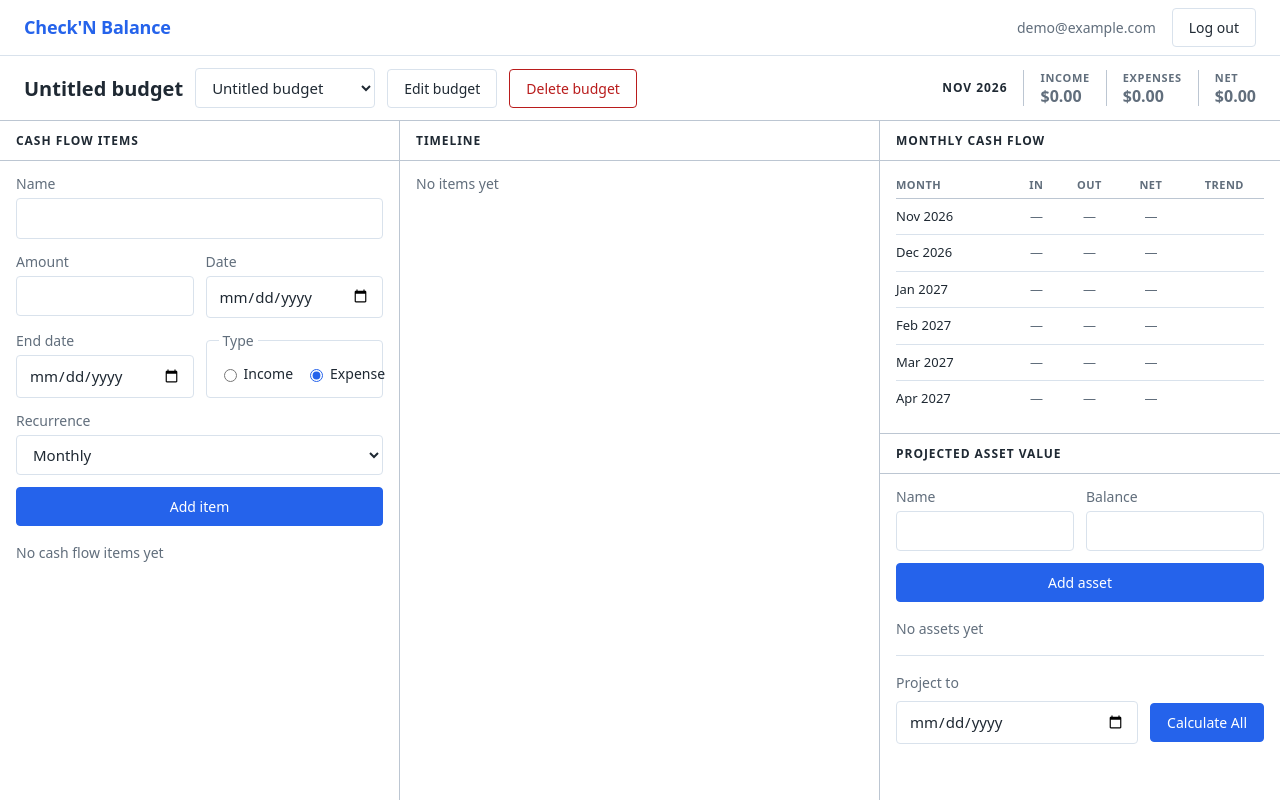
the add form › shows an error when the server is unreachable
Type "Gym" into the 1st field labelled "Name" at (200, 218), box [16, 198, 383, 238]
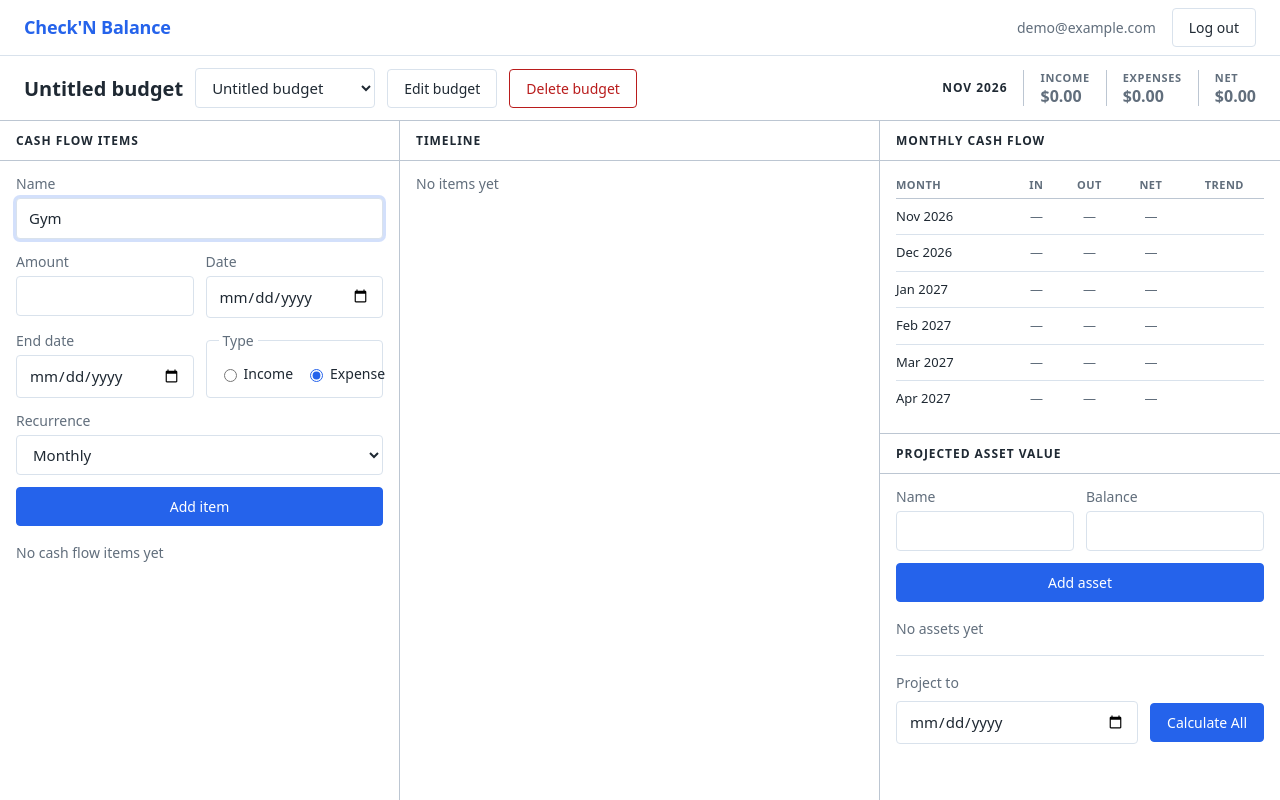
Type "40" into the number field labelled "Amount" at (105, 296), box [16, 276, 194, 316]
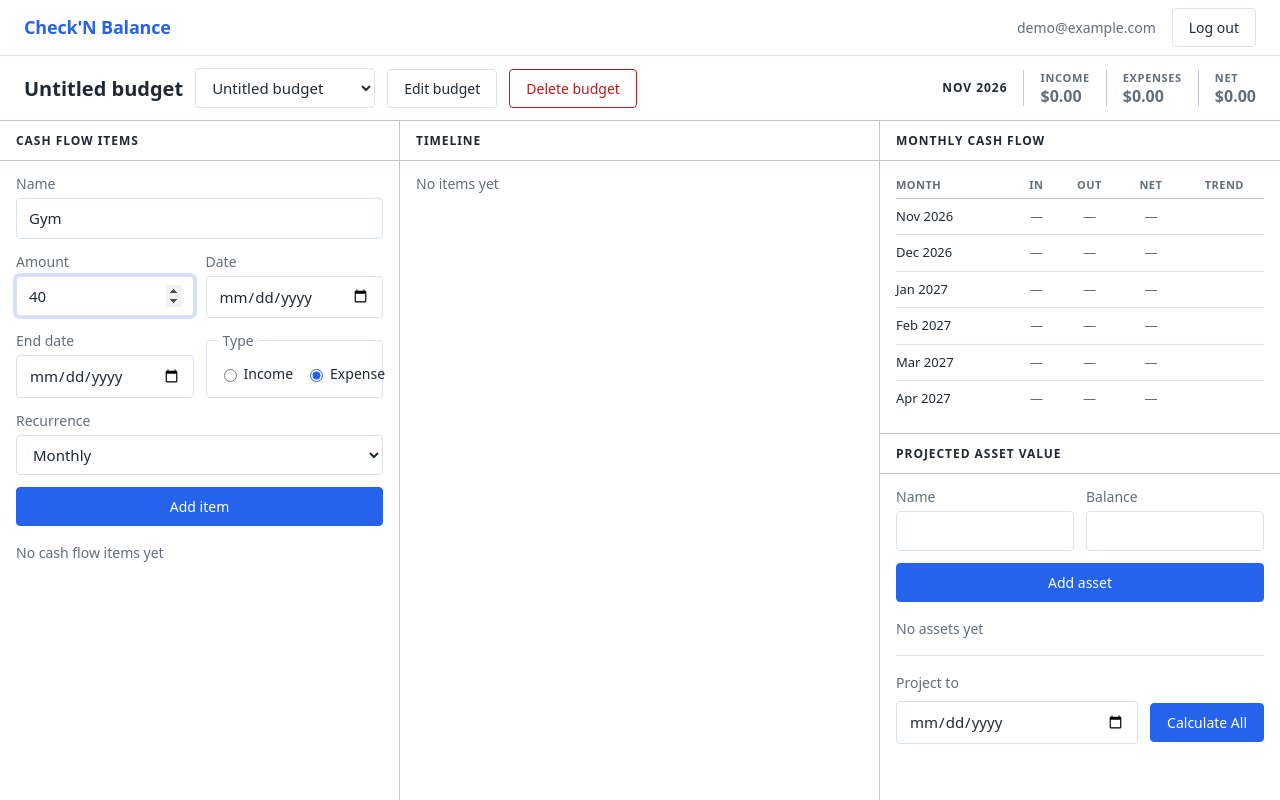
Type "2026-11-15" into the date field labelled "Date" at (294, 297), box [206, 276, 383, 318]
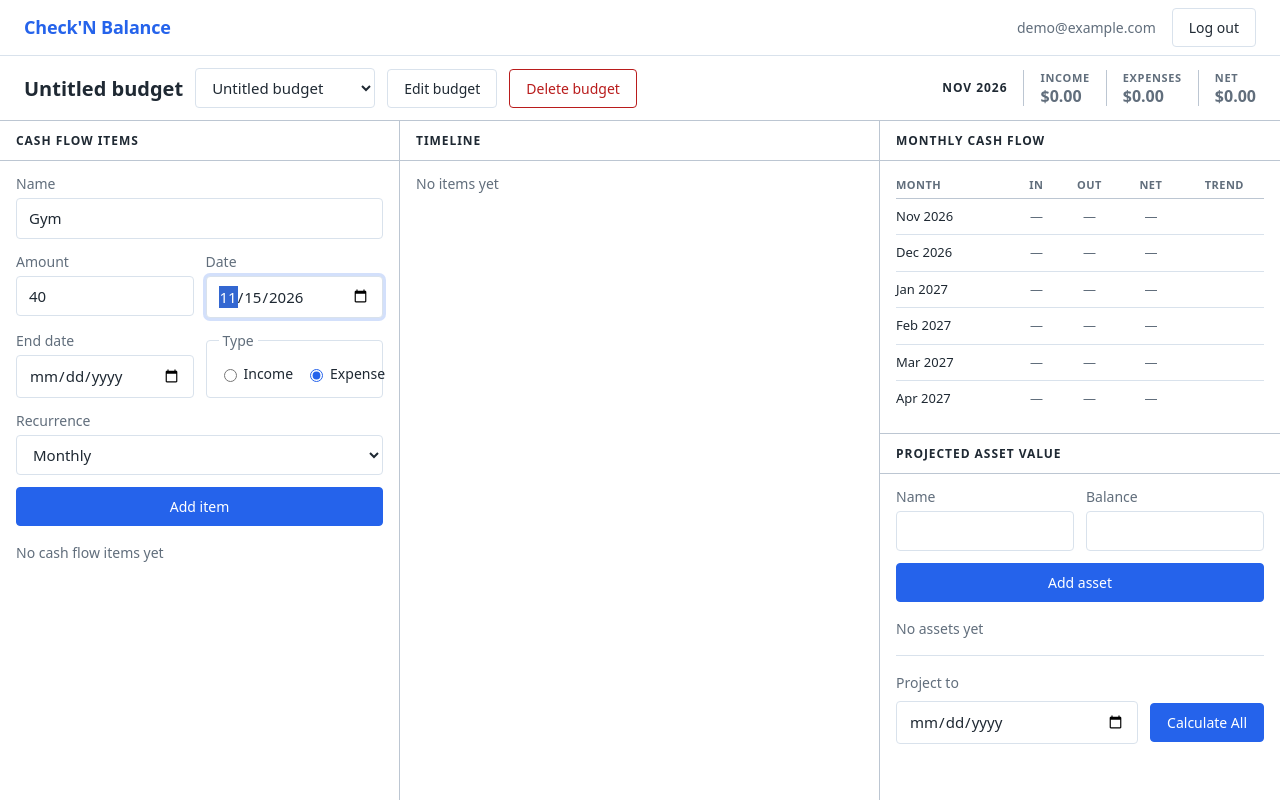
Click the button "Add item" at (200, 506), box [16, 486, 383, 526]
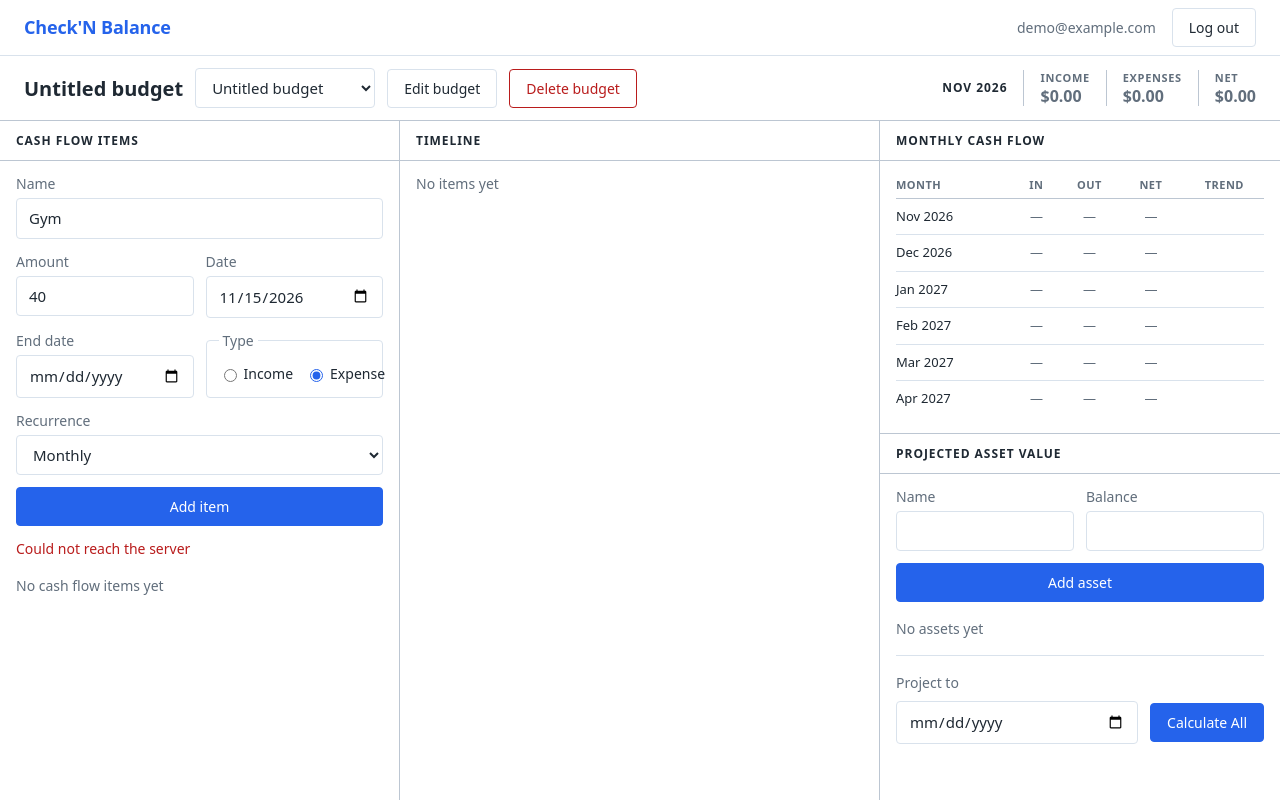
Expected: the message reads "Could not reach the server", [16, 538, 190, 558]
